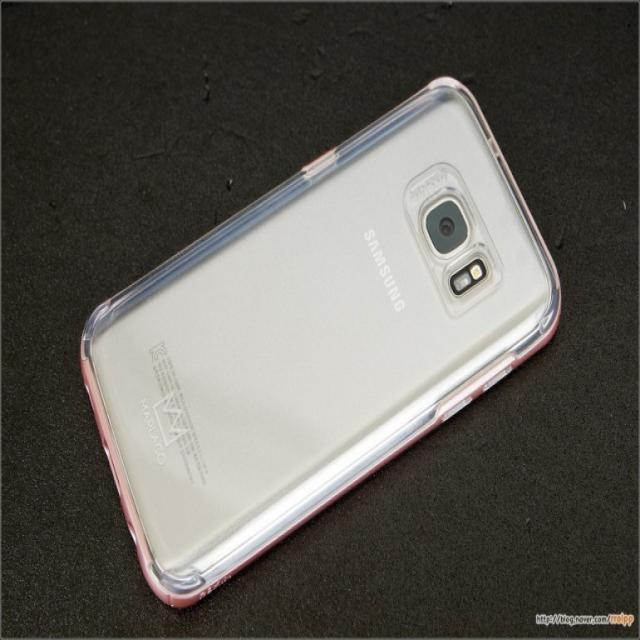phone: (81, 77, 564, 606)
